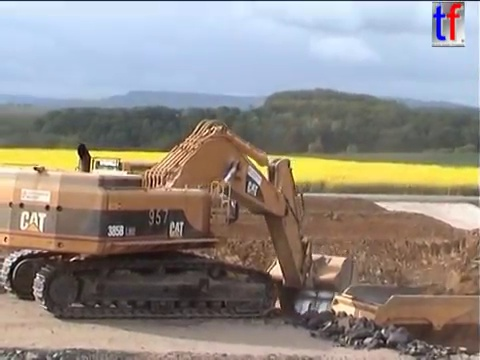excavator: (1, 113, 357, 323)
truck: (328, 281, 480, 360)
